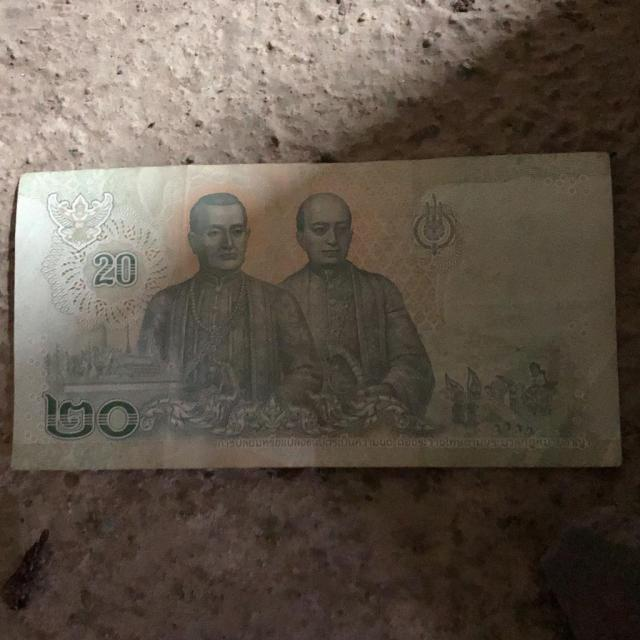THAI20: (12, 153, 620, 469)
